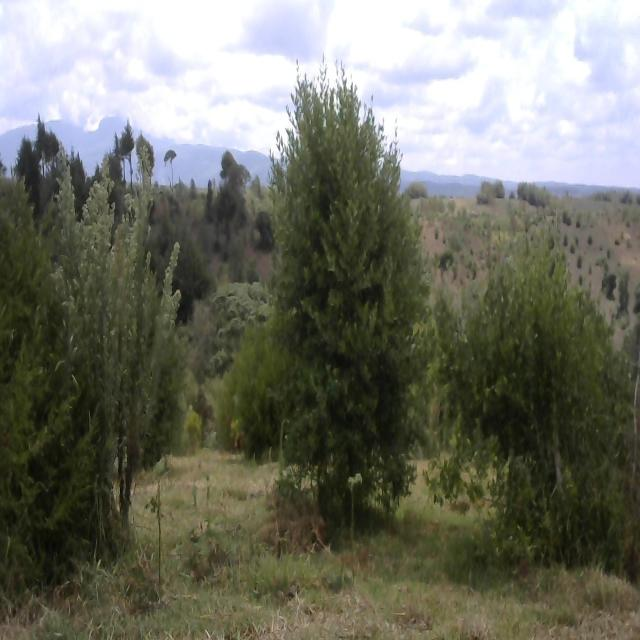Juniperus procesera: (0, 169, 106, 575), (218, 312, 290, 456), (118, 116, 136, 181), (34, 112, 50, 170)
Olea europea -africana-: (284, 41, 437, 519), (448, 256, 628, 541)
